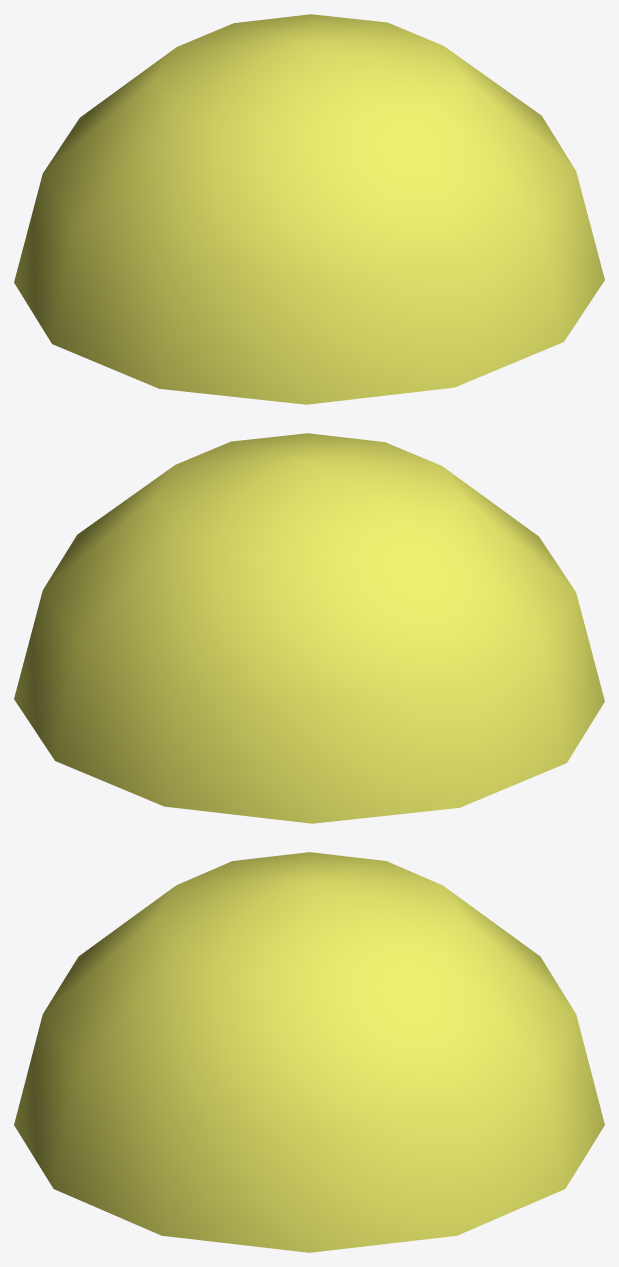
File: fb_lianhuachi_deng_02.FBX
3 views of the same model, one above another, from view 1: azimuth 30°, elevation 25°; view 2: azimuth 150°, elevation 25°; view 3: azimuth 270°, elevation 25° (orthographic).
Visible parts, largest first — view 1: Object02; view 2: Object02; view 3: Object02.
Boxes of the visible parts, x1,y1,x2,y2 form: Object02: [14, 14, 604, 404]; Object02: [14, 433, 604, 823]; Object02: [14, 852, 604, 1252].
Size of the model in its own units: 8.04 by 3.54 by 7.86.
